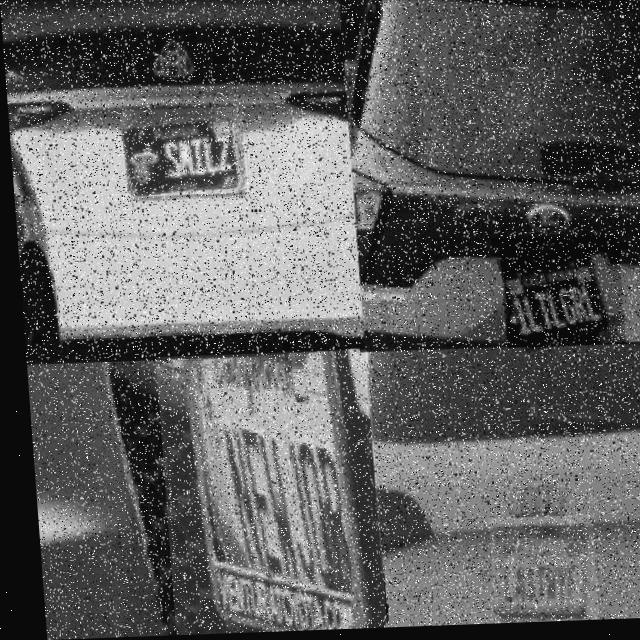LicensePlate: (150, 352, 377, 636), (495, 240, 620, 352), (480, 519, 589, 627), (119, 109, 245, 198)
